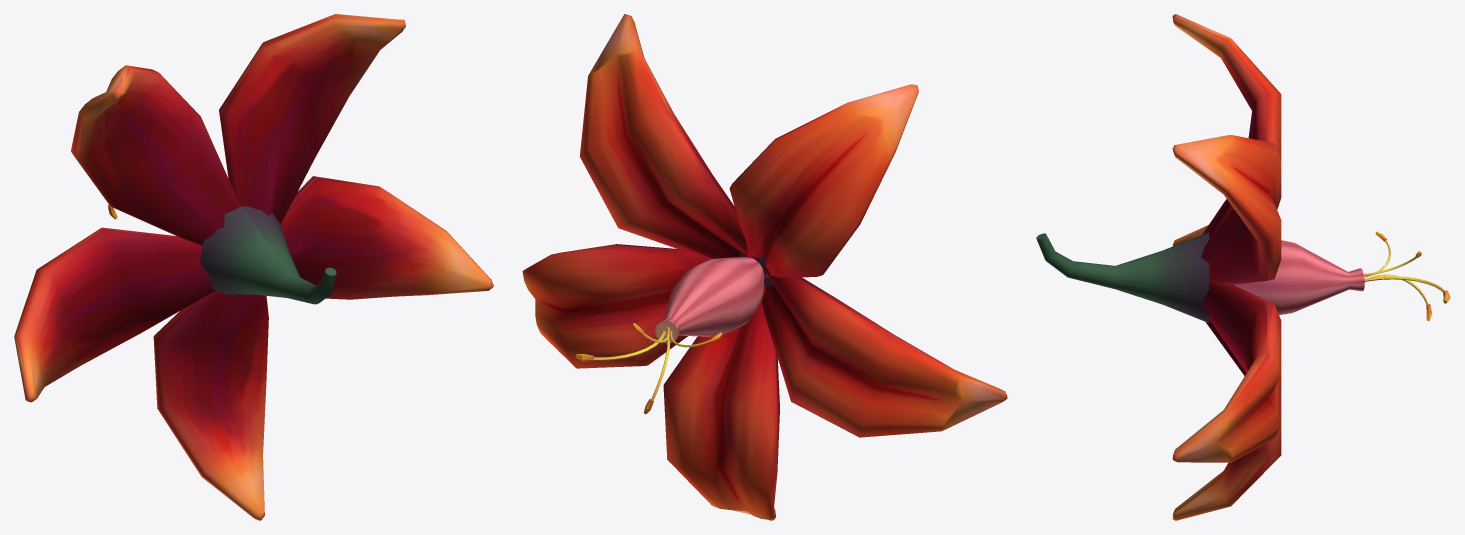
The model's file is Initial_Item_Flower Specimen 1_Ver1.fbx.
The picture shows the model from 3 angles, left to right: view 1: azimuth 30°, elevation 25°; view 2: azimuth 150°, elevation 25°; view 3: azimuth 270°, elevation 25°; orthographic projection. The views are drawn at different scales.
Visible parts, largest first — view 1: Petals, Cylinder; view 2: Petals, Bulb, Sepals; view 3: Petals, Cylinder, Bulb, Sepals.
Part boxes in pixels (x1,y1,x2,y2): Petals: (14, 14, 493, 520); Cylinder: (200, 206, 336, 304); Petals: (522, 14, 1007, 520); Bulb: (654, 257, 764, 343); Sepals: (575, 323, 722, 414); Petals: (1172, 14, 1281, 520); Cylinder: (1036, 232, 1209, 322); Bulb: (1233, 240, 1364, 315); Sepals: (1363, 231, 1450, 321).
Size of the model in its own units: 316 by 301 by 256.
Materials: 4 (4 with a texture image).
